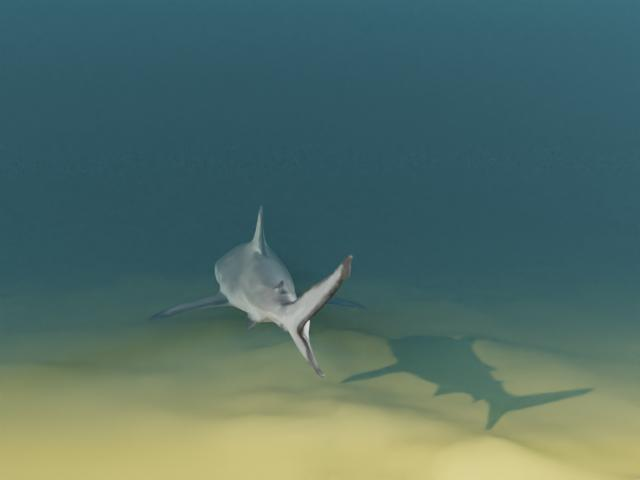Carribean Shark.001: (146, 205, 367, 377)
